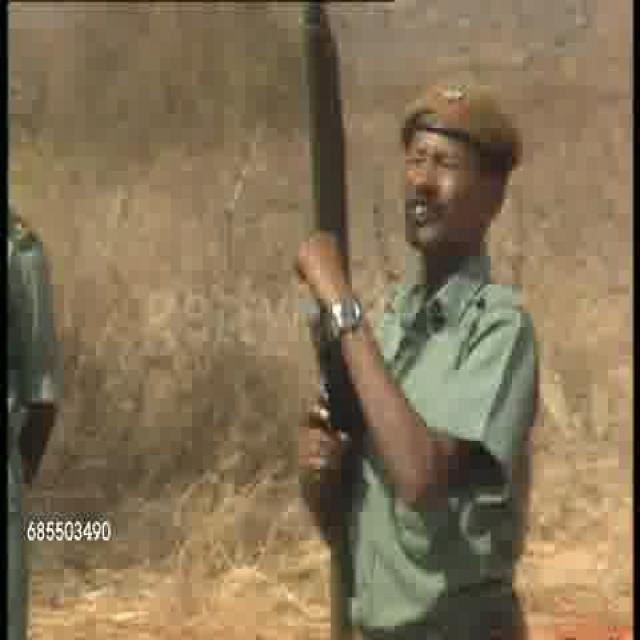poacher: (365, 48, 543, 560)
weapon: (296, 22, 371, 596)
